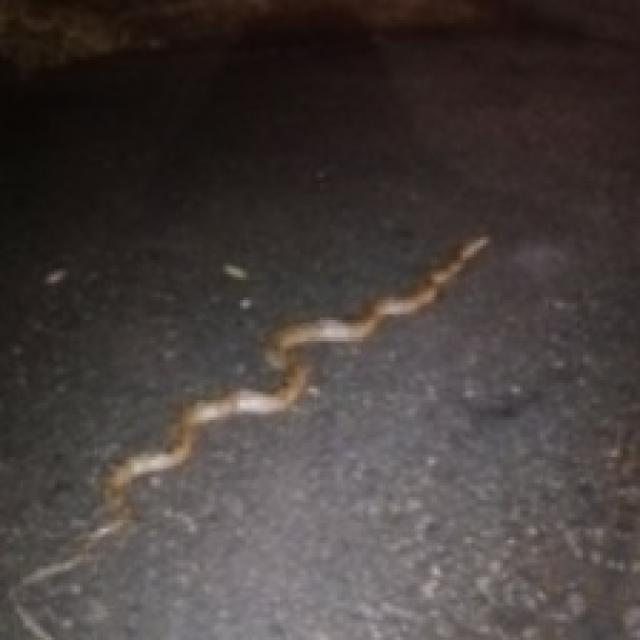reticulated python: (9, 234, 489, 637)
